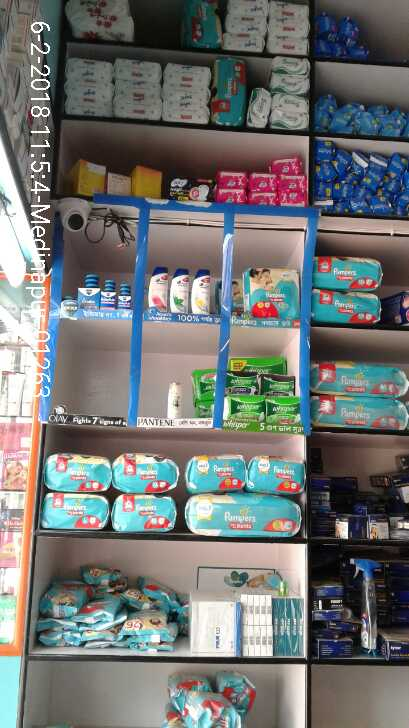vicks: (64, 270, 135, 316)
